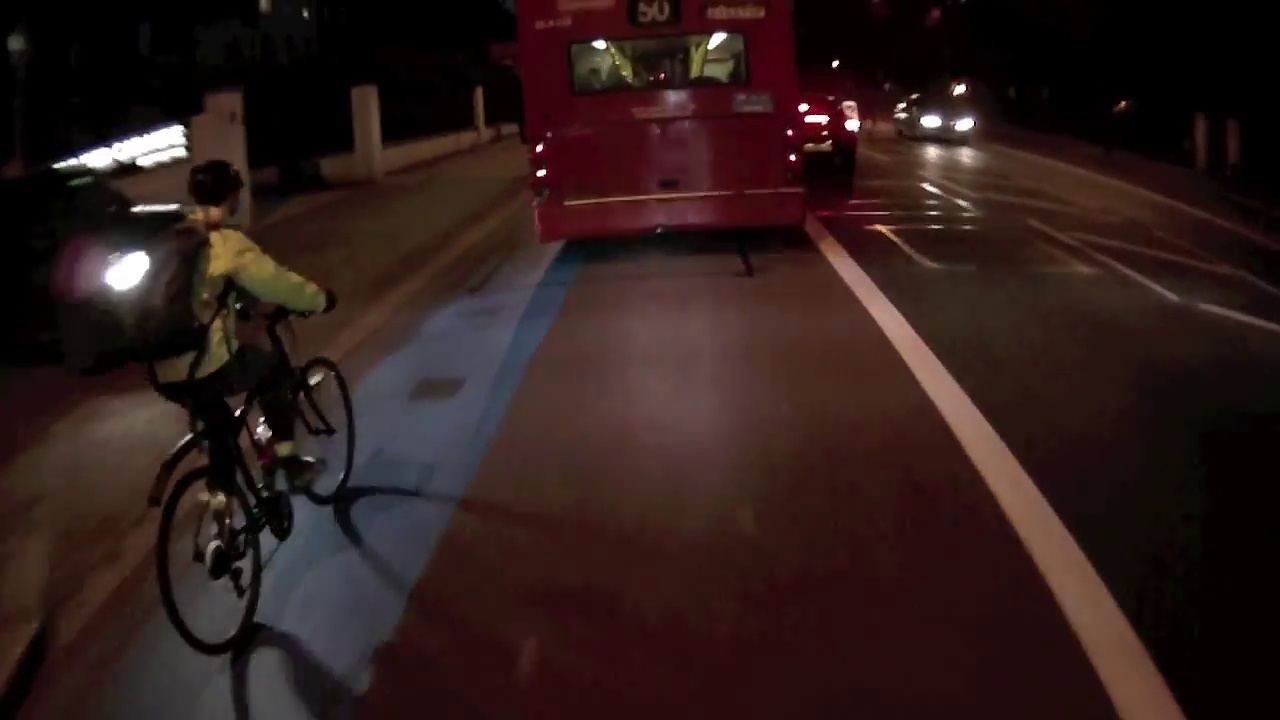cyclist_back: (79, 149, 378, 658)
